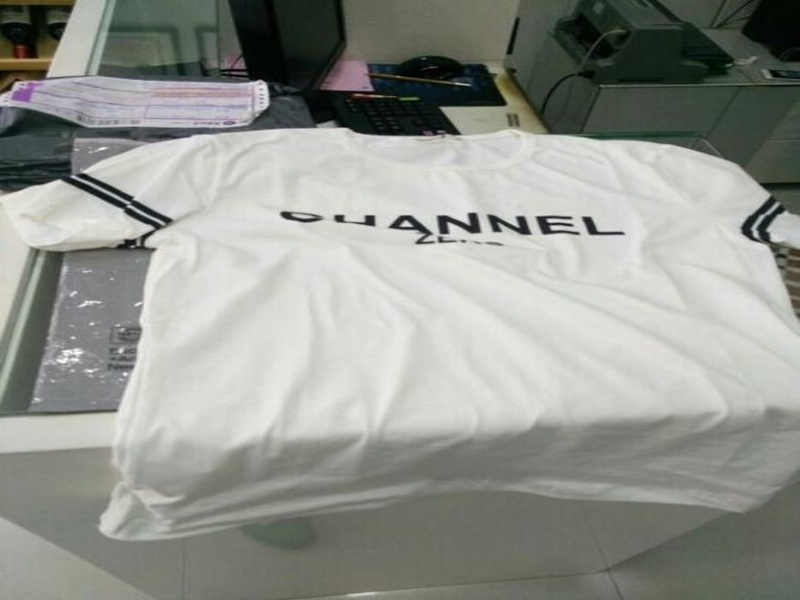short_sleeved_shirt: (0, 123, 798, 550)
